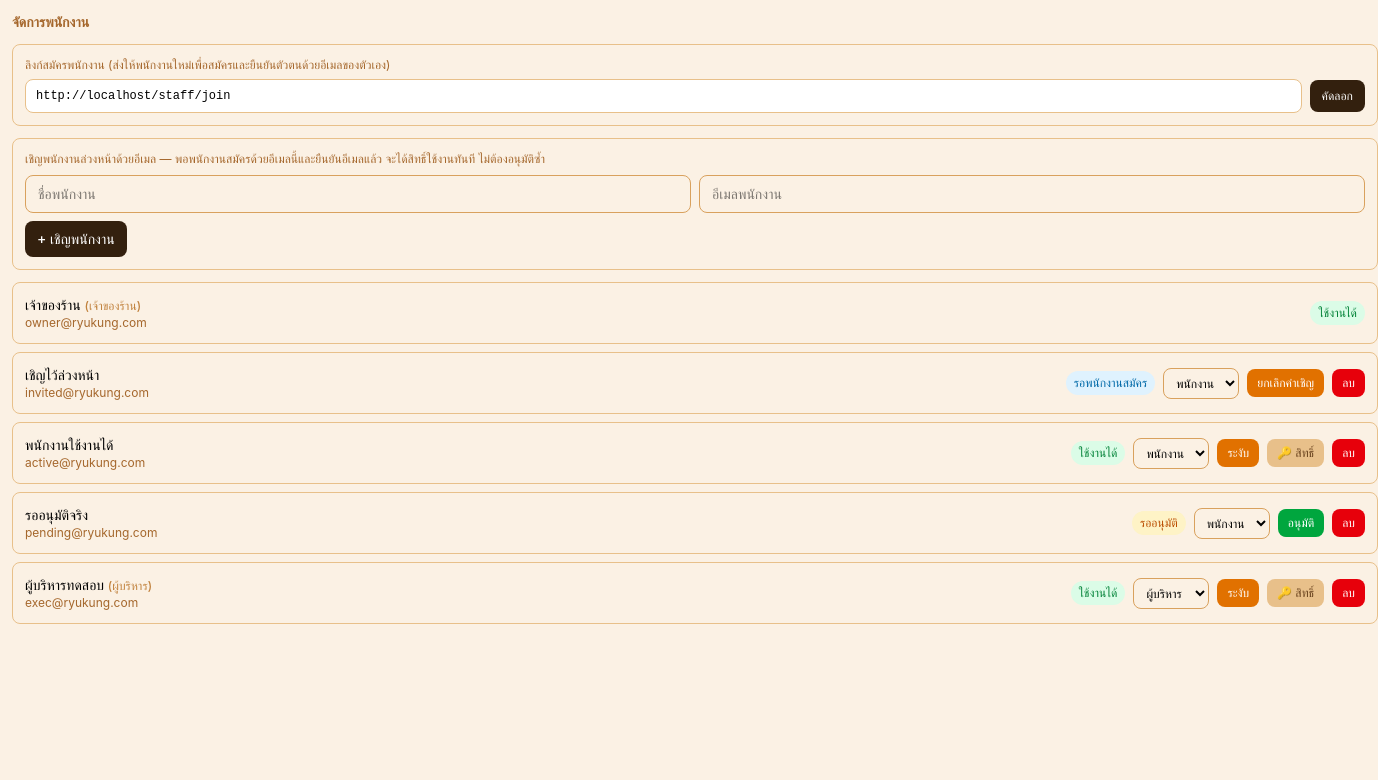
Test: ส่วนจัดการพนักงานในหน้าตั้งค่า › เชิญสำเร็จ ข้อความบอกชัดว่าต้องตั้งรหัสผ่านเอง+ยืนยันอีเมล และไม่ต้องกดอนุมัติเพิ่ม
This screenshot has width=1378, height=780.
Type "พนักงานใหม่" into the field with placeholder "ชื่อพนักงาน".
click(358, 194); type("พนักงานใหม่")  # box top-left (25, 175), bottom-right (691, 213)
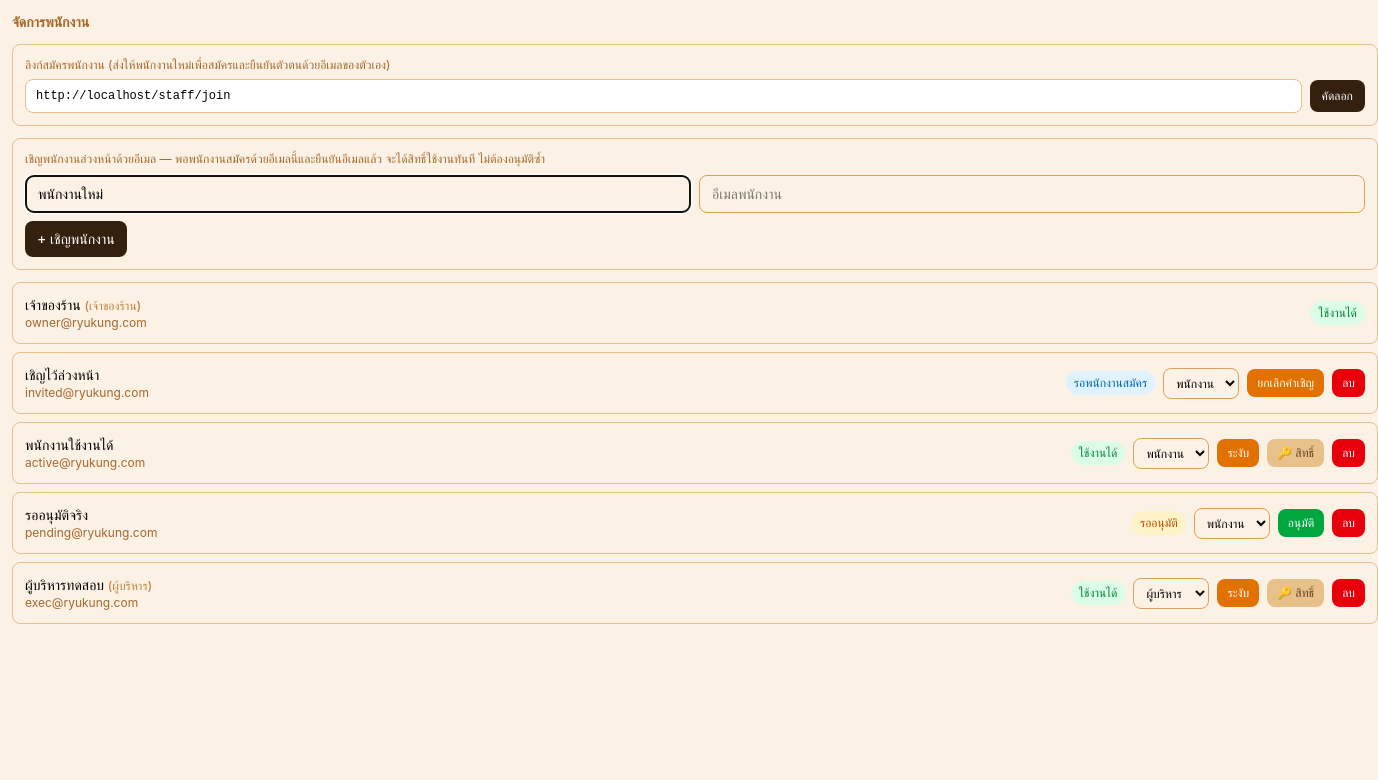
Type "new@ryukung.com" into the field with placeholder "อีเมลพนักงาน".
click(1032, 194); type("new@ryukung.com")  # box top-left (699, 175), bottom-right (1365, 213)
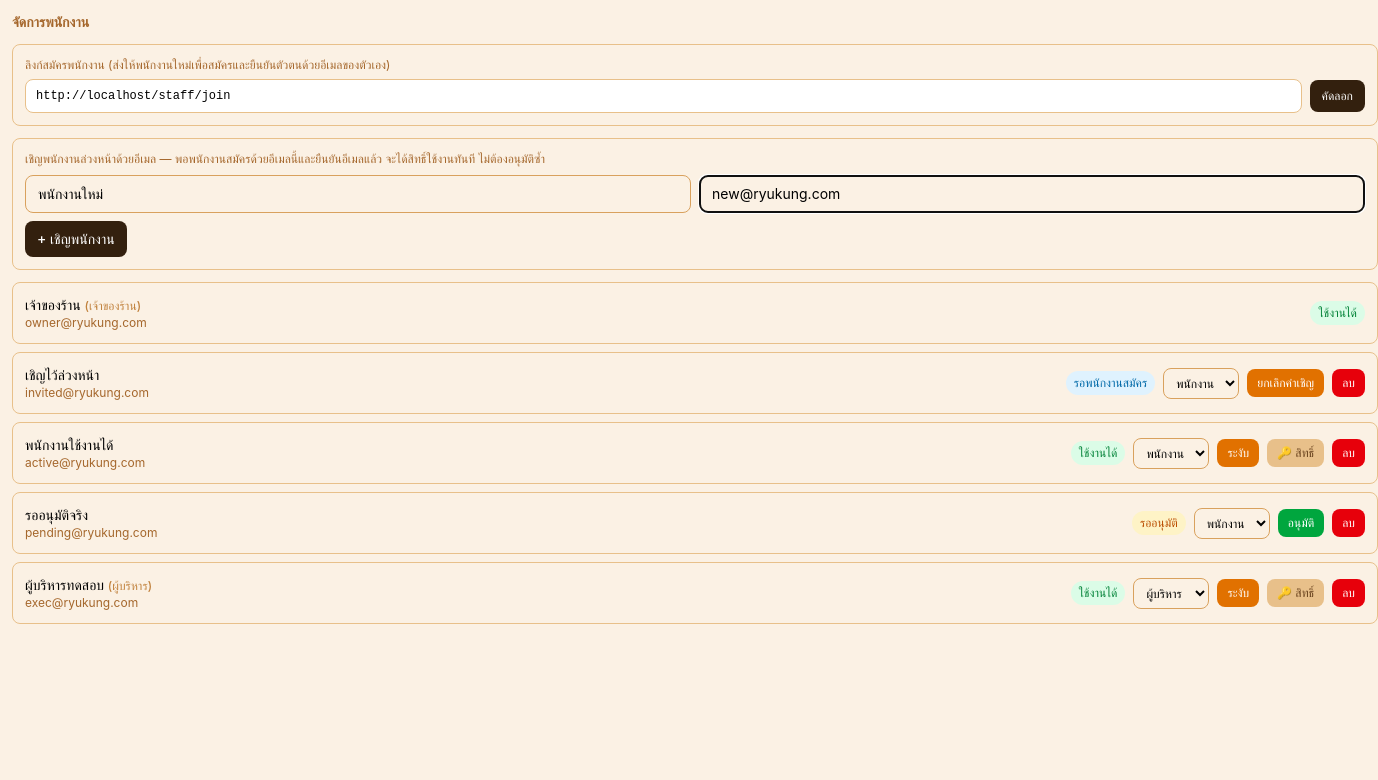
Click the button "+ เชิญพนักงาน".
click(76, 239)  # box top-left (25, 221), bottom-right (127, 257)
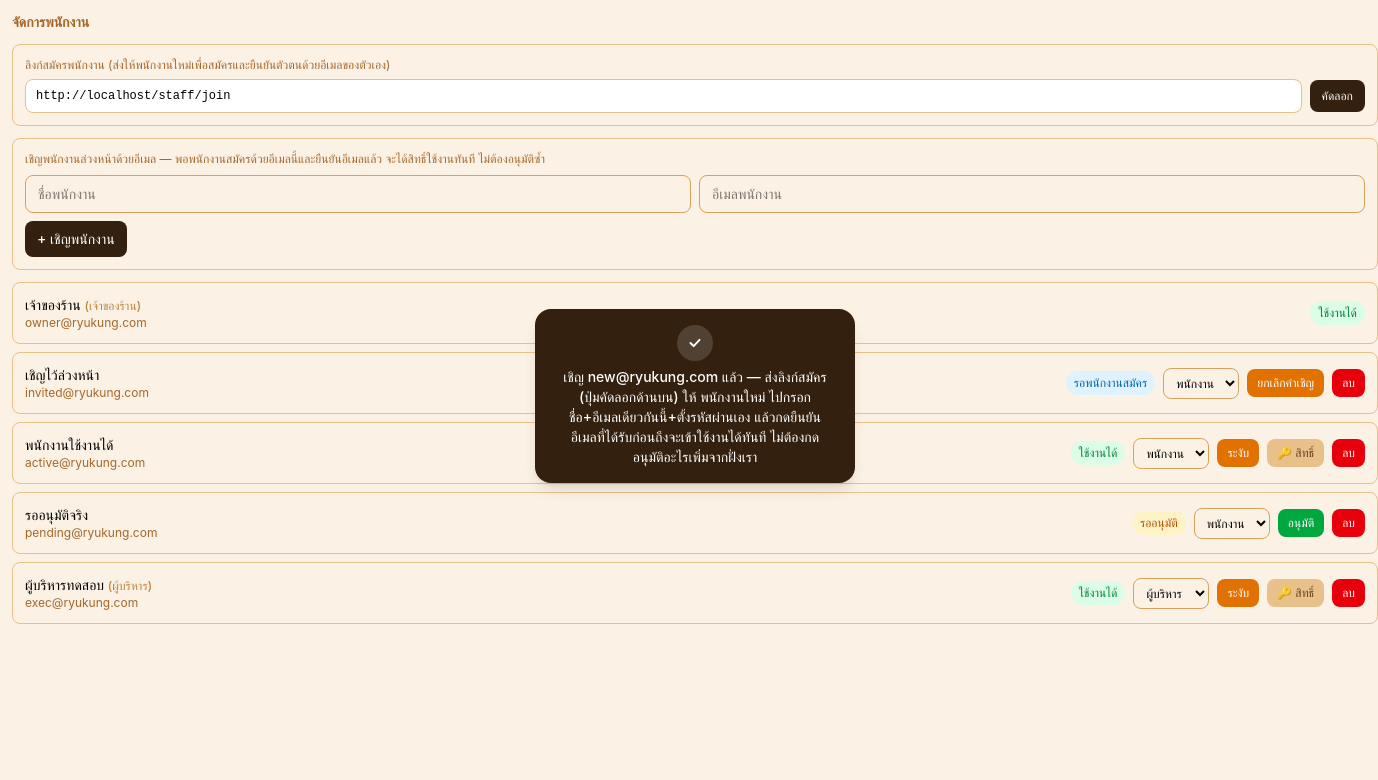
expect the text "ไม่ต้องกดอนุมัติอะไรเพิ่ม" is shown: met, box top-left (563, 368), bottom-right (827, 465)
